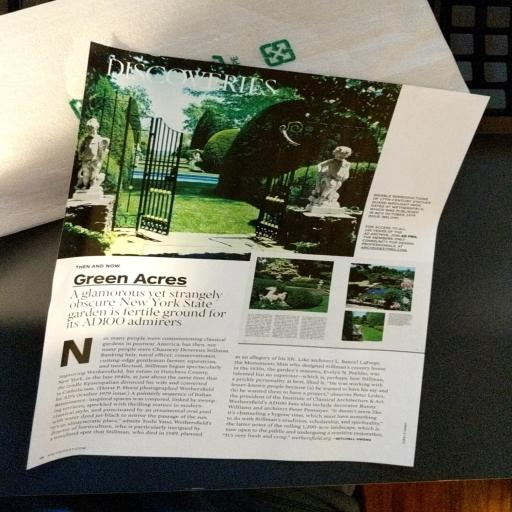paper: (8, 23, 492, 511)
